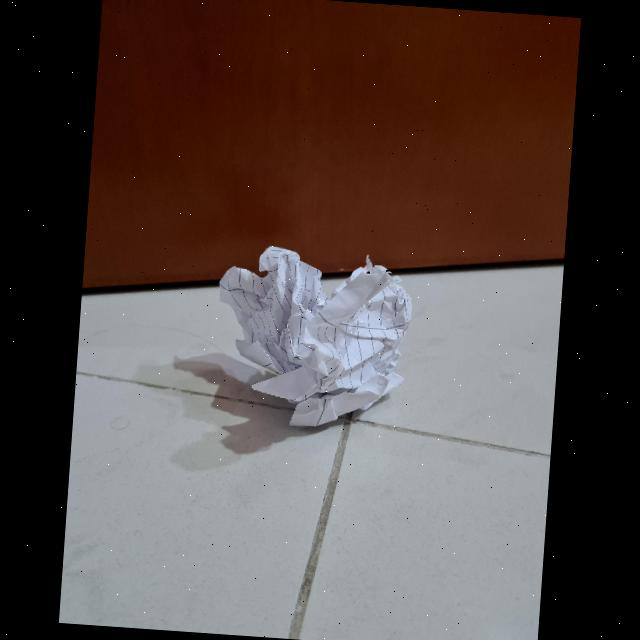trash: (192, 240, 411, 438)
